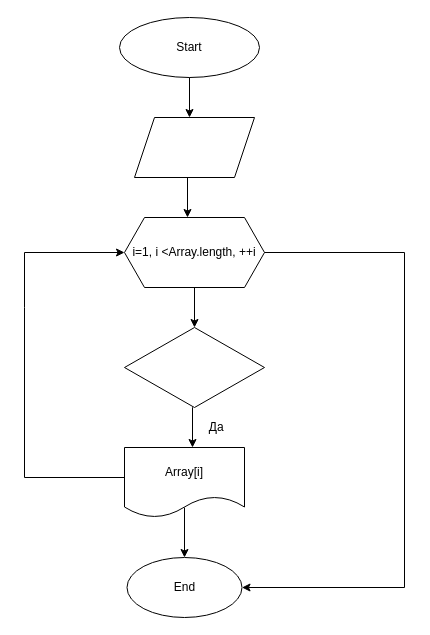
This 430x635 diagram has some shape labels left out. Each missing label, with the centre of its shape:
If Array[i].length<=3: the point at 194,367
LengthArray, Array[string]: the point at 194,147
